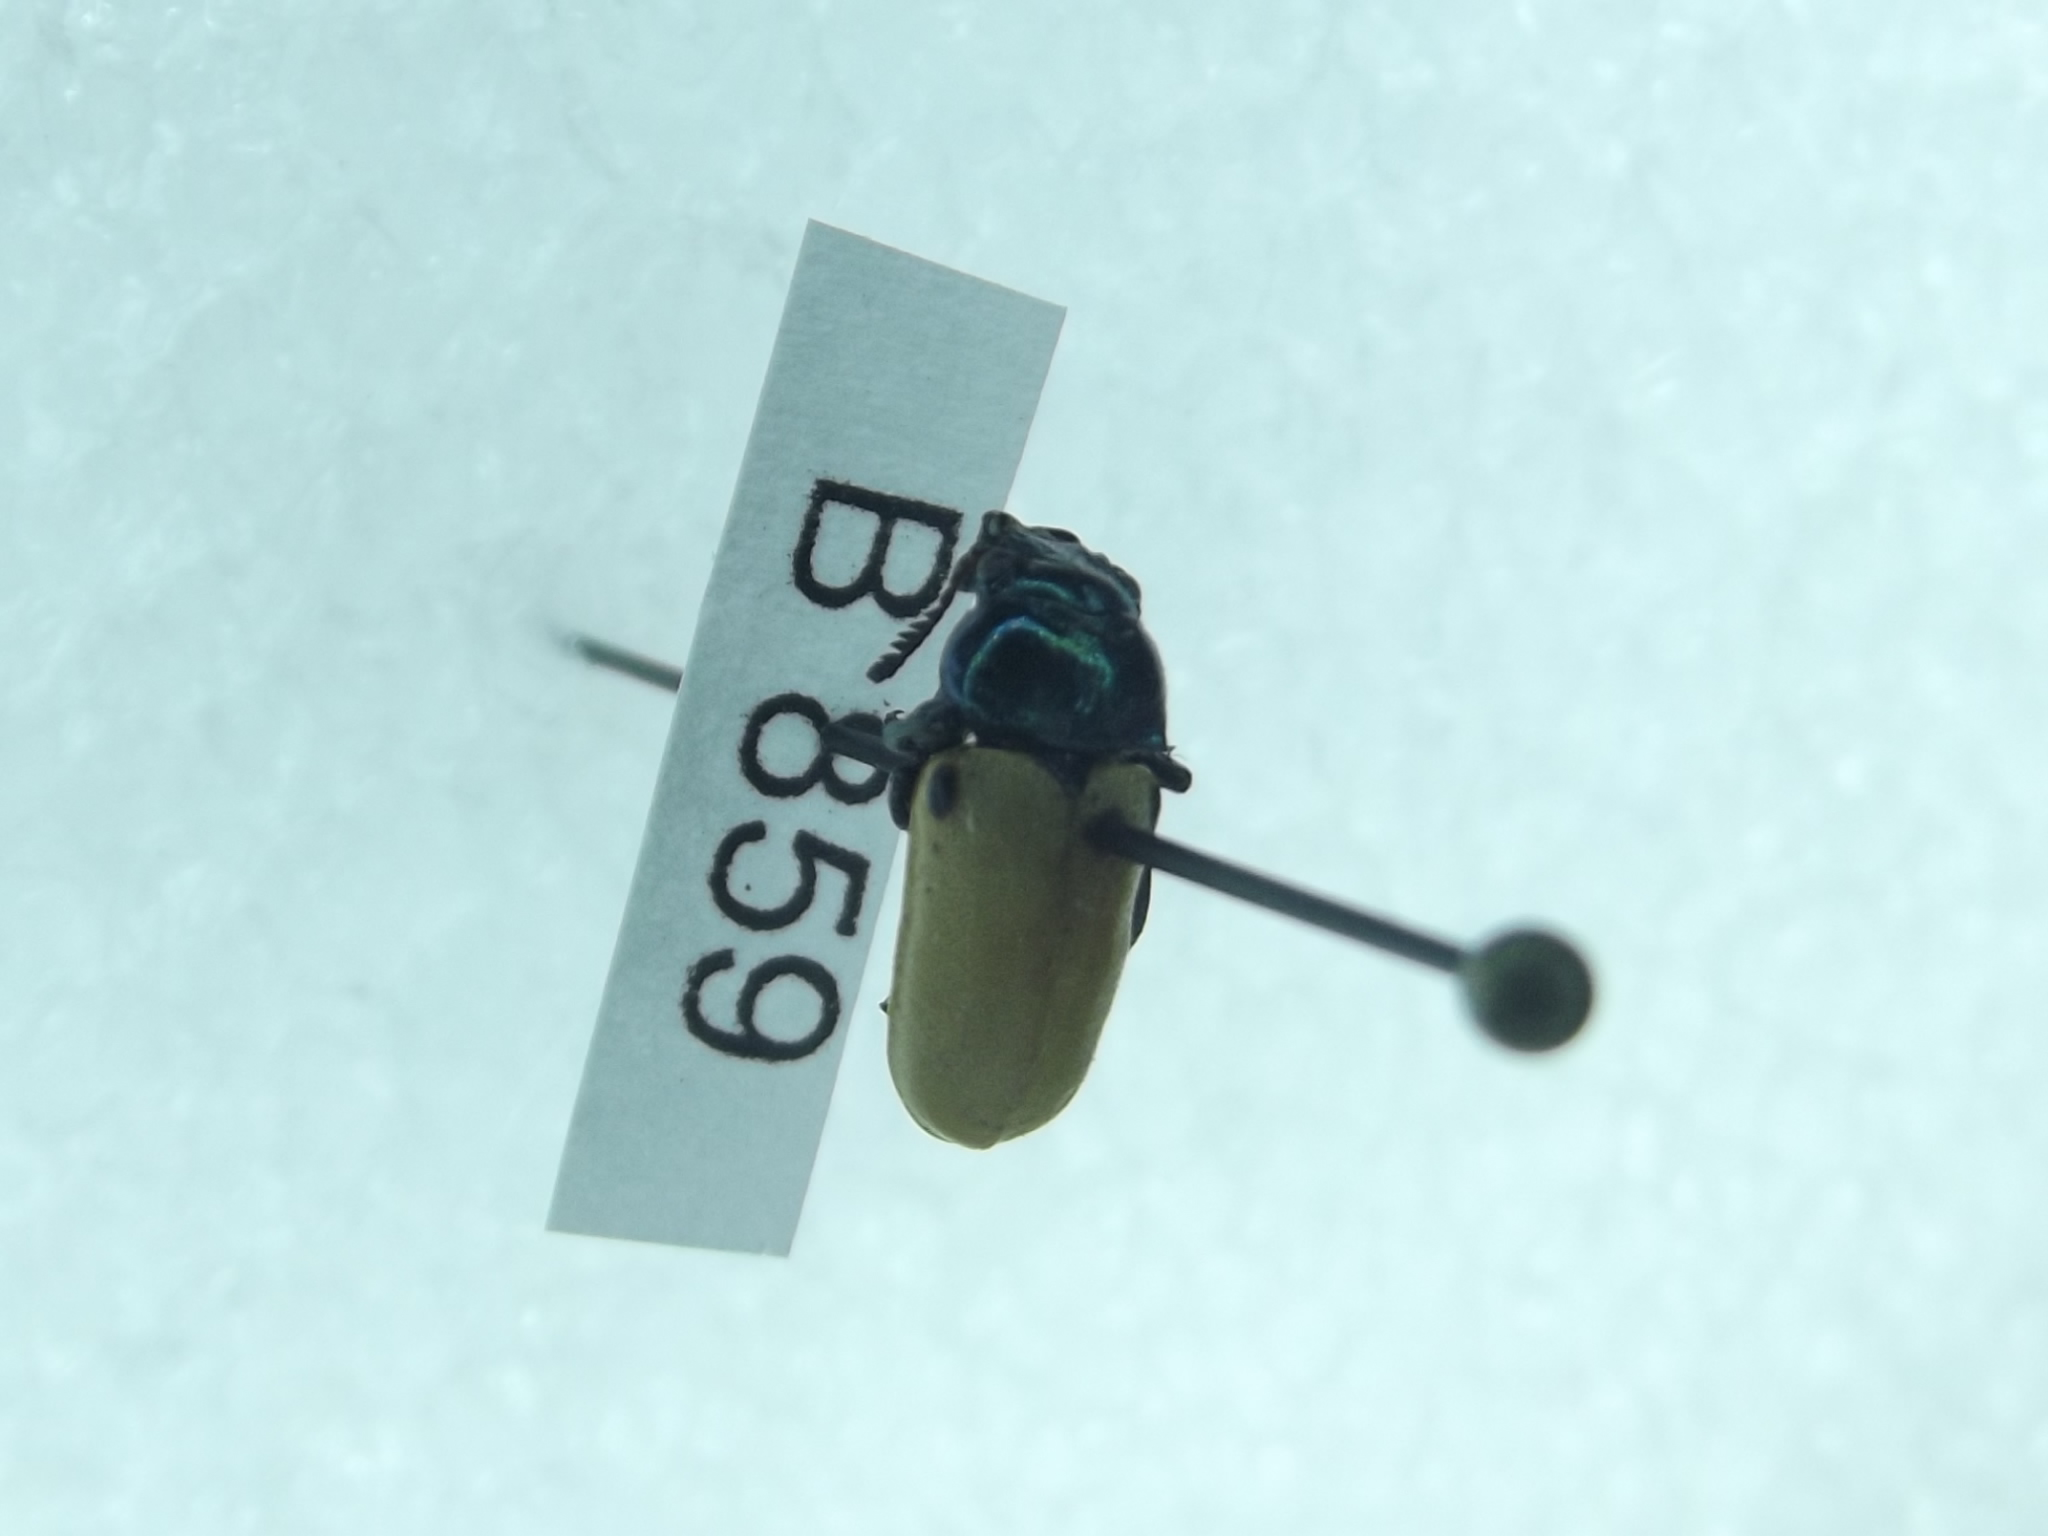Labidostomis_longimana: (874, 499, 1209, 1186)
